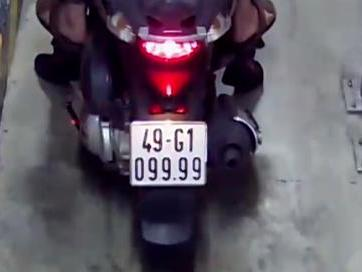num_plate: (129, 119, 208, 188)
